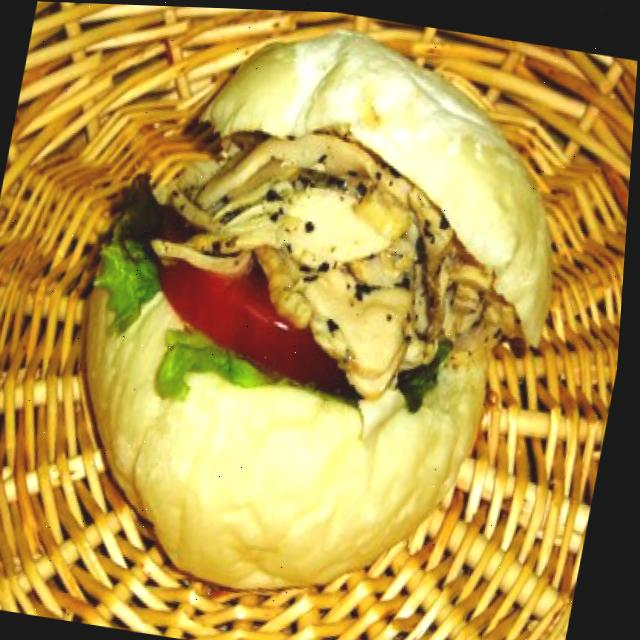三明治: (12, 1, 619, 640)
